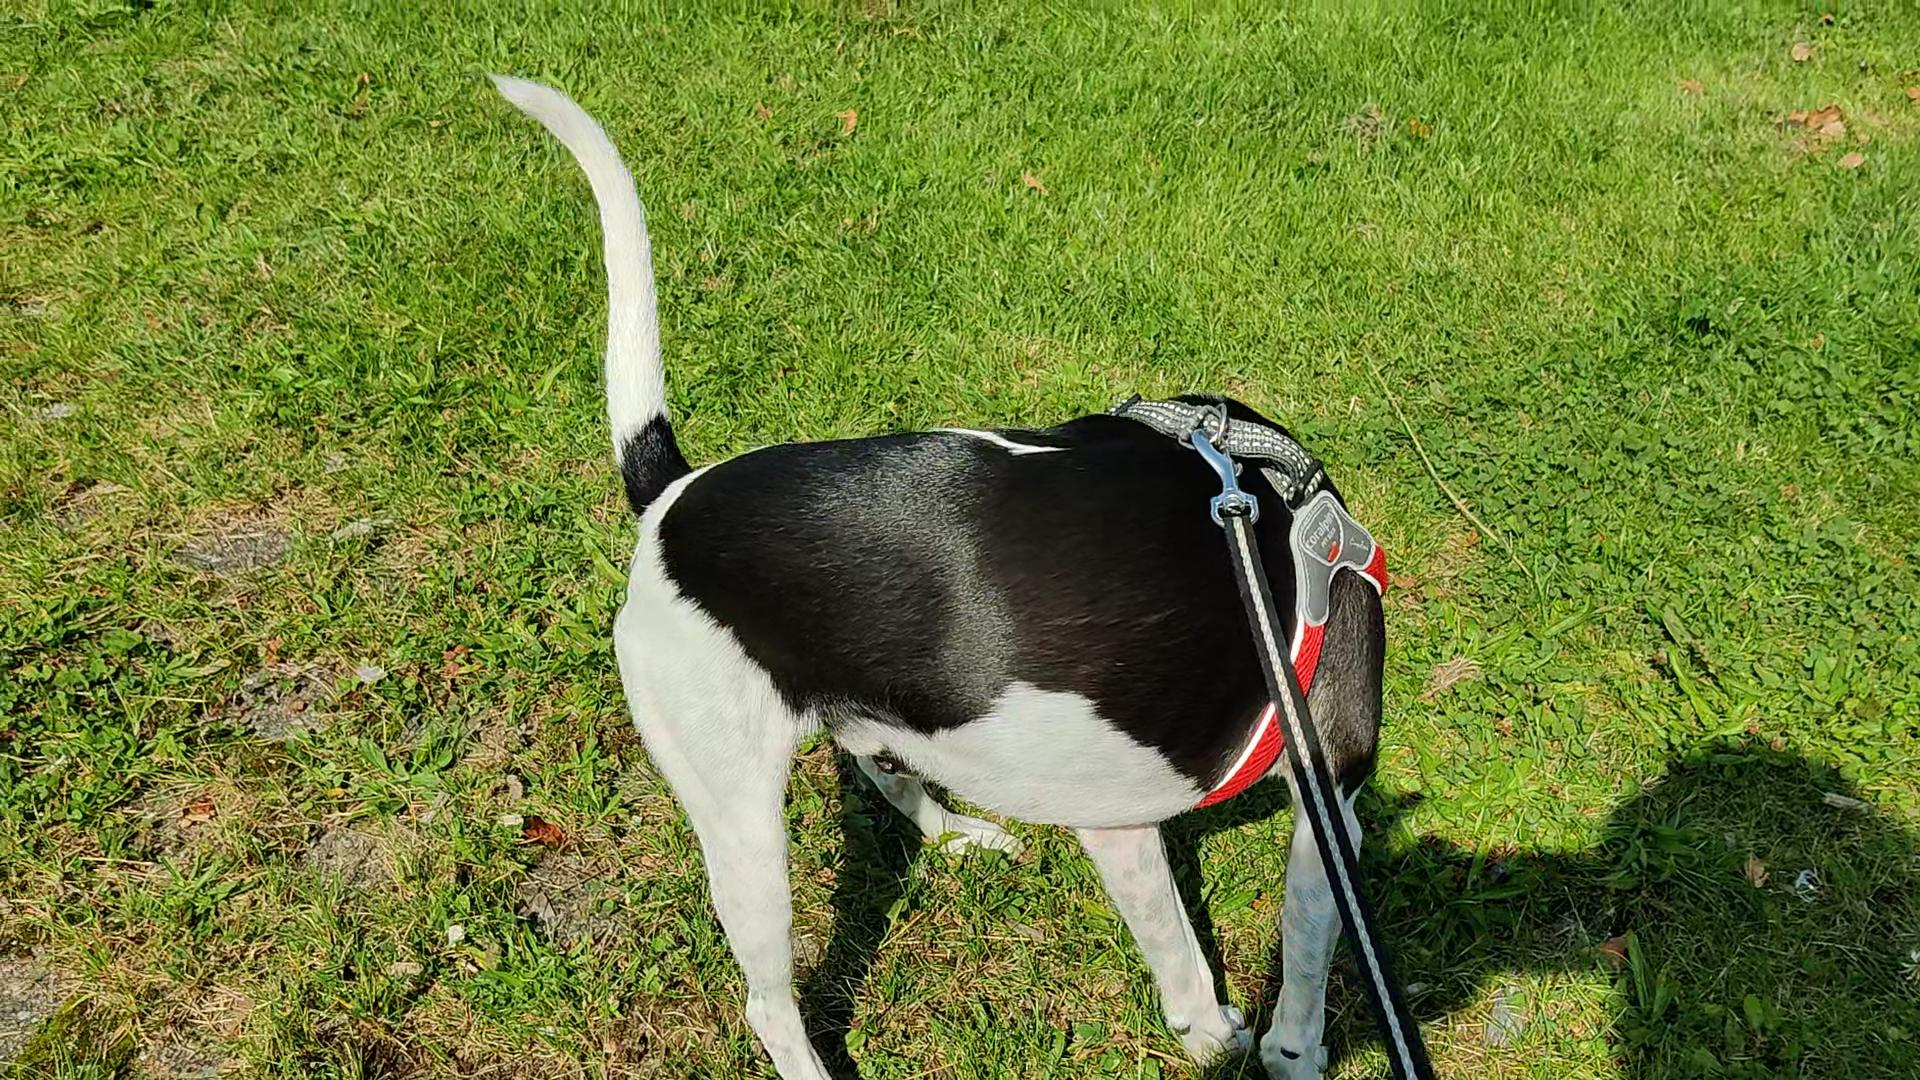Dog: (477, 65, 1394, 1079)
